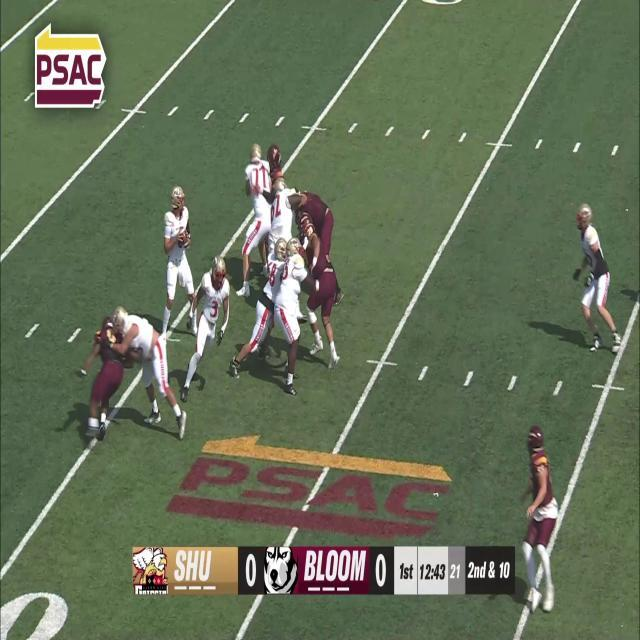football: (178, 226, 189, 246)
